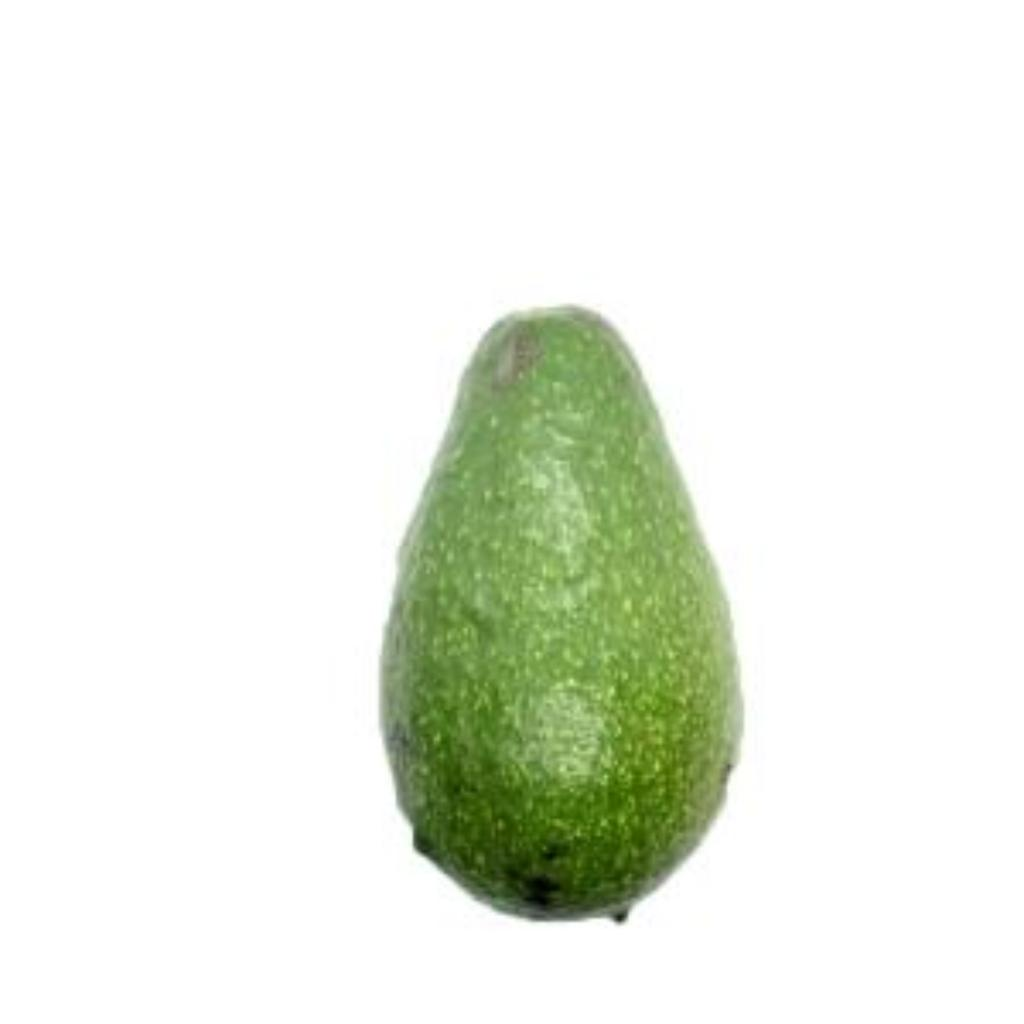cercospora: (376, 296, 755, 927)
